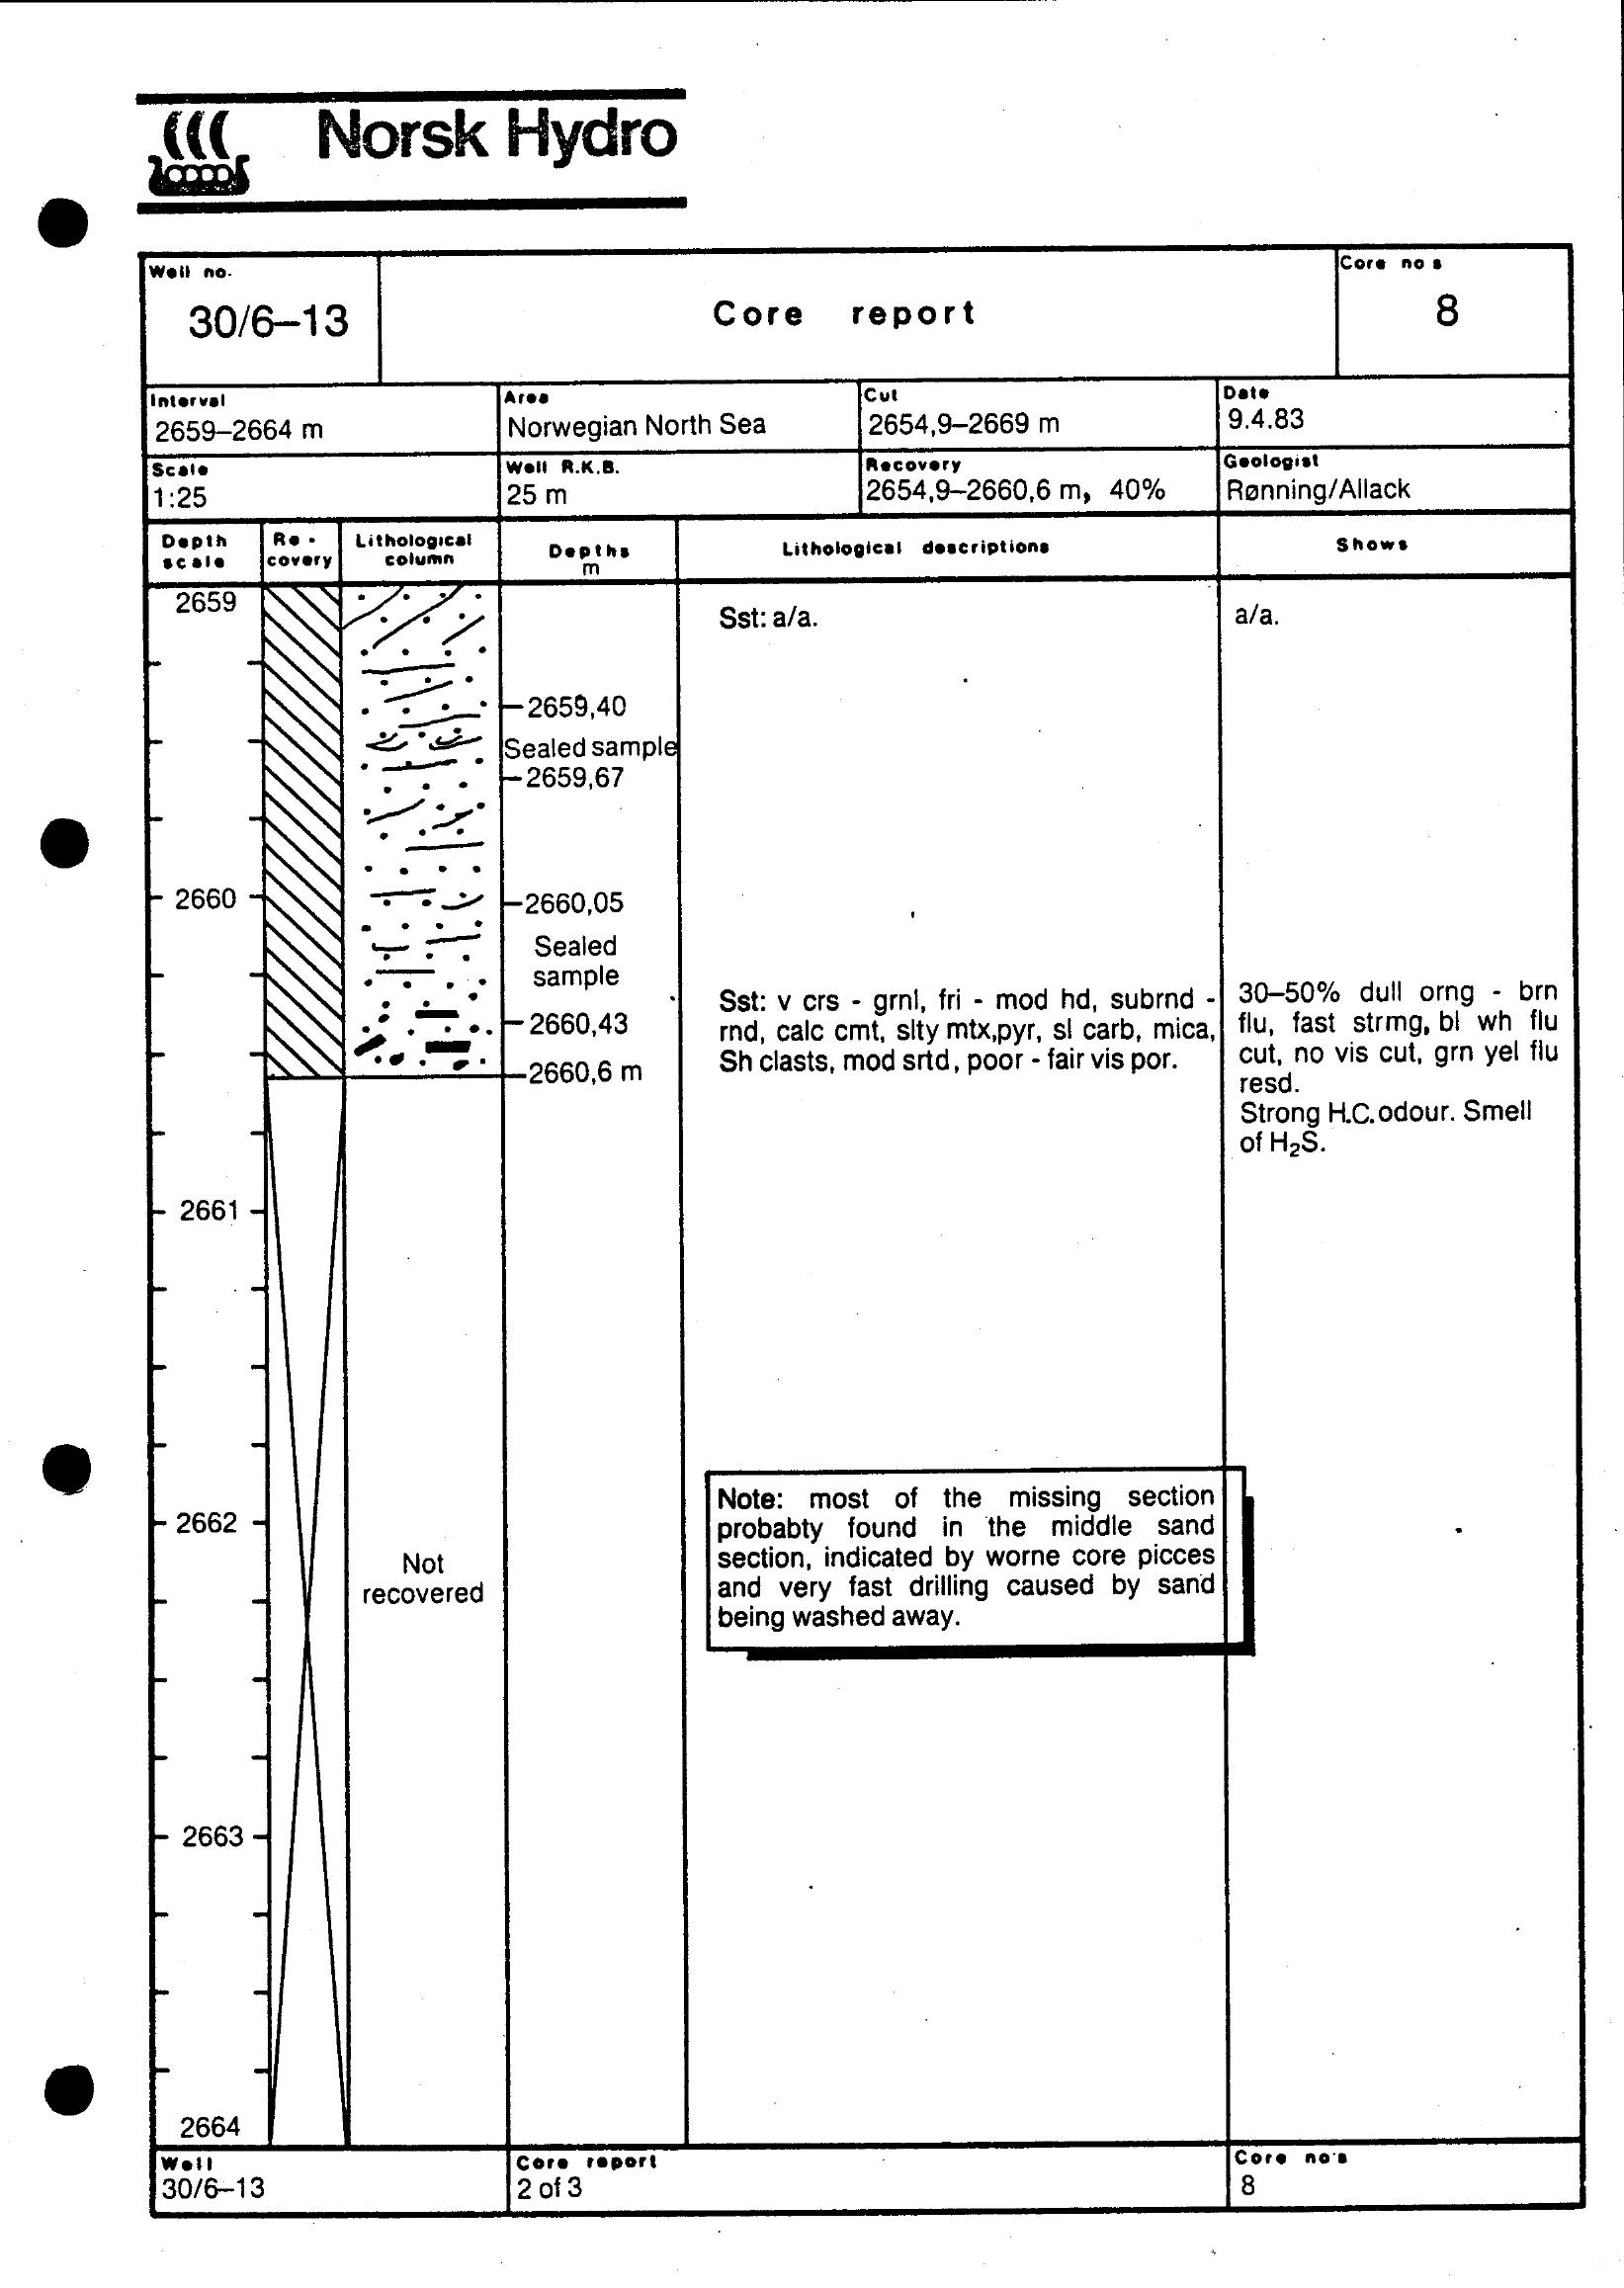graph: (105, 223, 1624, 2241)
undefined: (118, 76, 708, 227)
